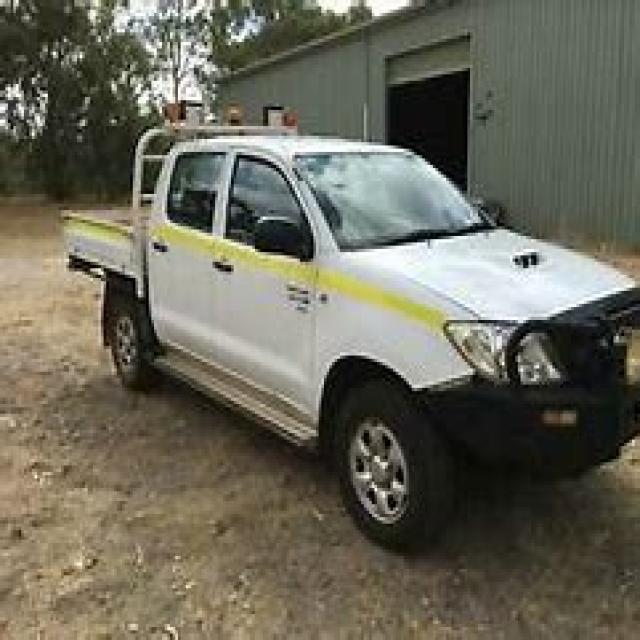light_vehicle: (35, 93, 638, 550)
